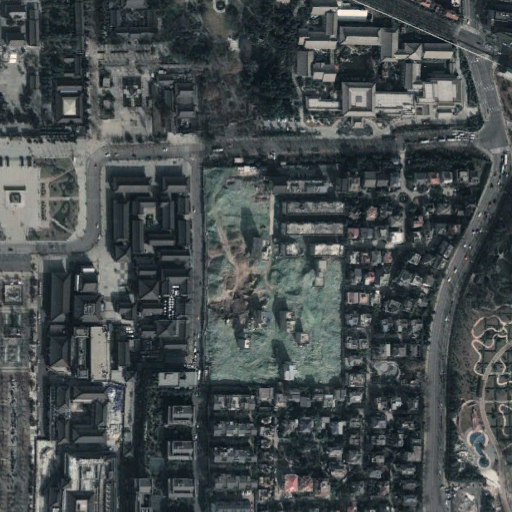cw: (201, 161, 341, 381)
